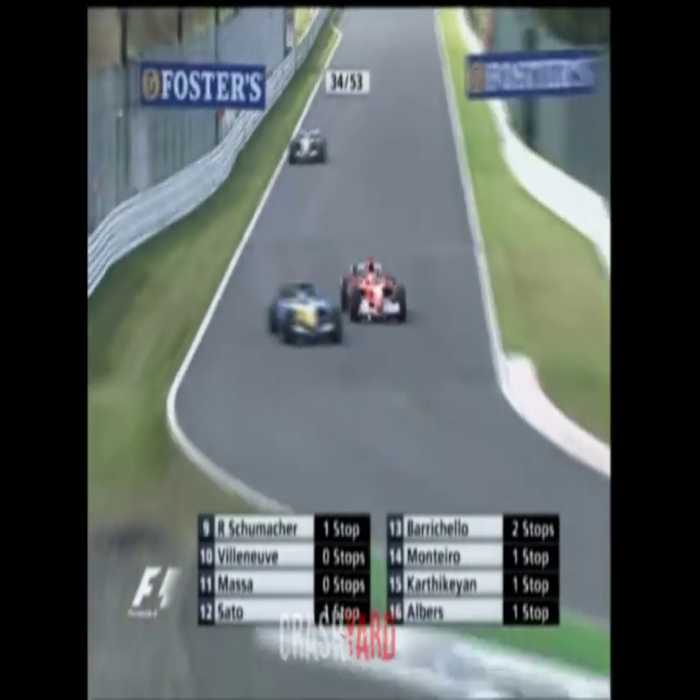f1_car: (261, 272, 342, 359), (337, 252, 411, 332), (287, 128, 330, 172)
